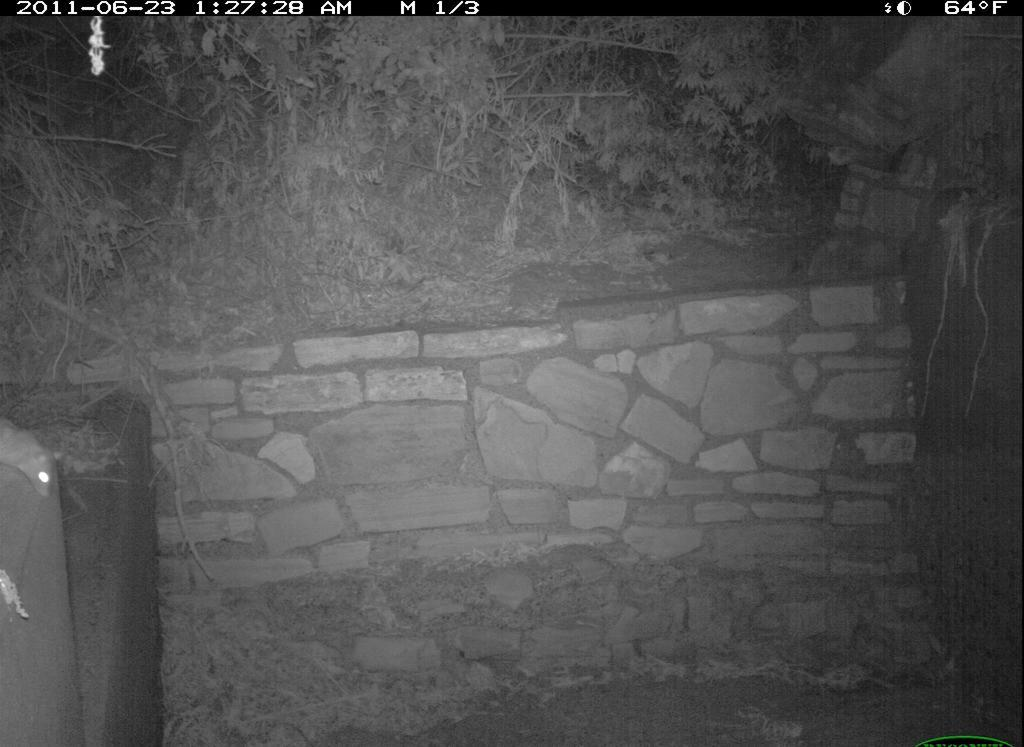rodent: (1, 402, 71, 518)
